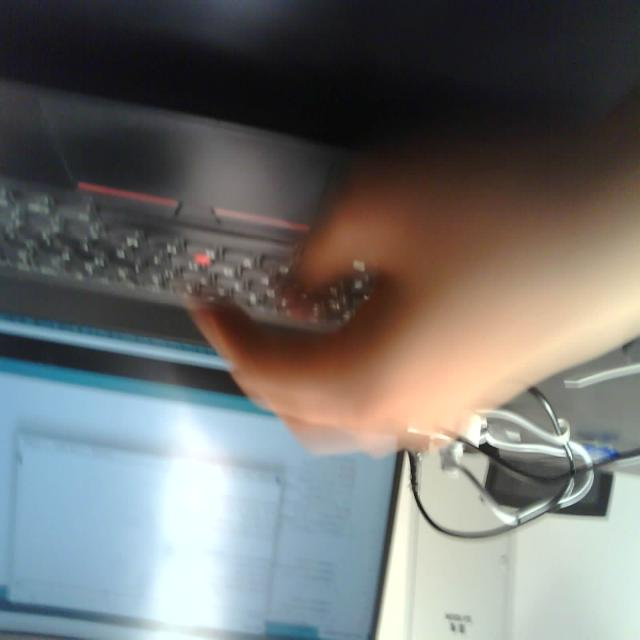keyboard-with-hands: (0, 74, 433, 366)
